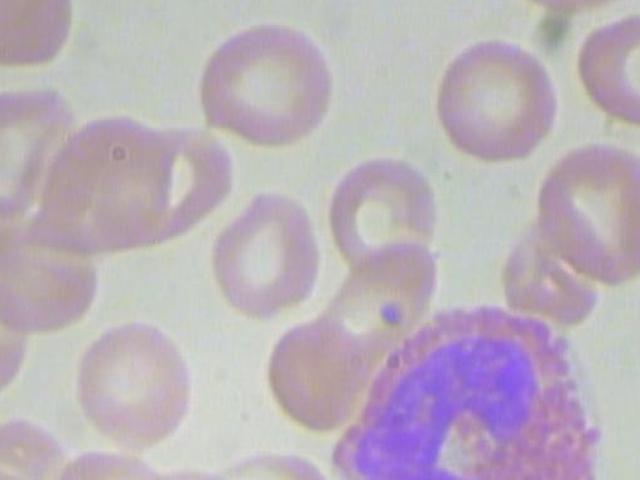RBC: (182, 13, 340, 150), (67, 311, 209, 455), (426, 30, 563, 171), (206, 177, 324, 325), (315, 144, 437, 285), (531, 140, 640, 296), (260, 310, 370, 436), (0, 0, 80, 80), (0, 457, 56, 480)
WBC: (327, 294, 620, 480)
